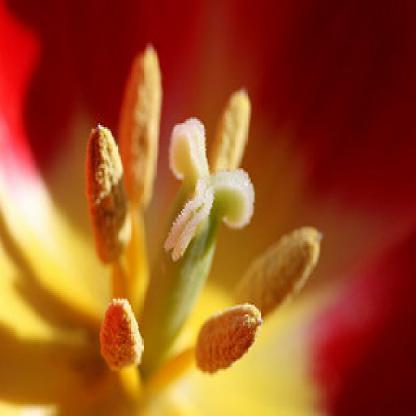TULIP: (52, 13, 336, 390)
